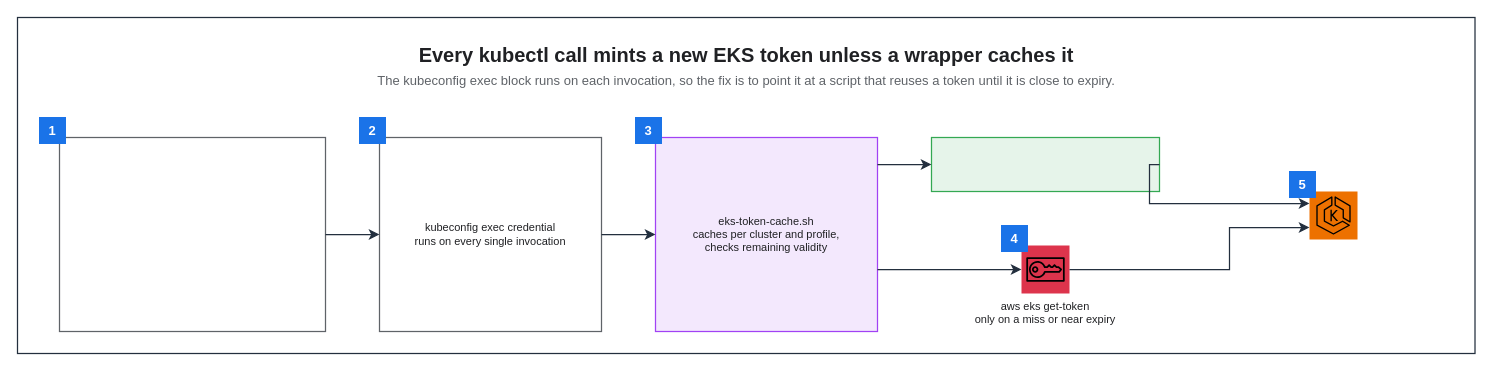
This 1493x372 diagram has some shape labels left out. Each missing label, with the box of its shape:
Cache still valid the token is reused, no AWS call: (930, 136, 1160, 192)
EKS API server verifies the token and applies RBAC: (1309, 191, 1357, 239)
kubectl reads the exec block in ~/.kube/config: (58, 136, 326, 332)
